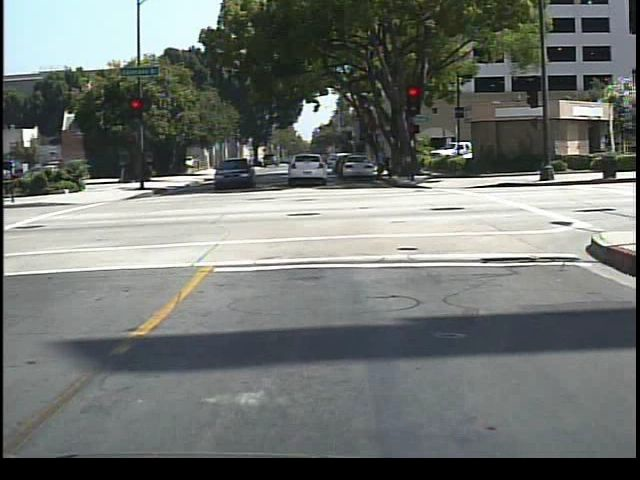person: (374, 144, 396, 185)
